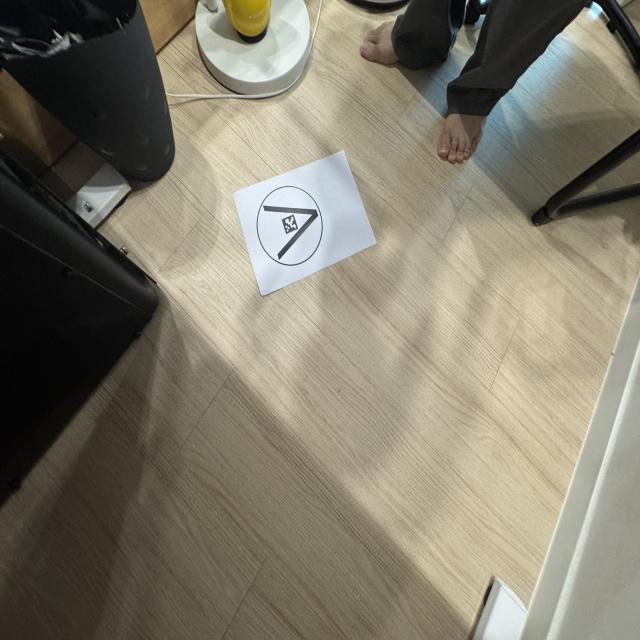ArUro mark: (252, 181, 328, 271)
